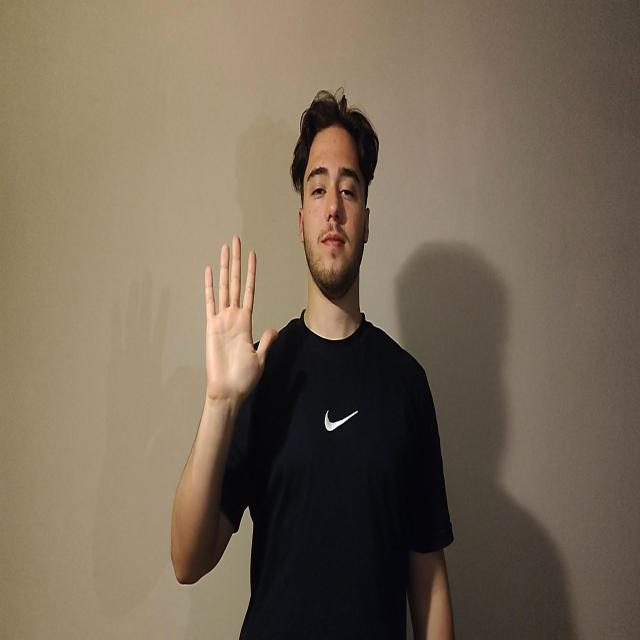hello: (204, 234, 278, 405)
